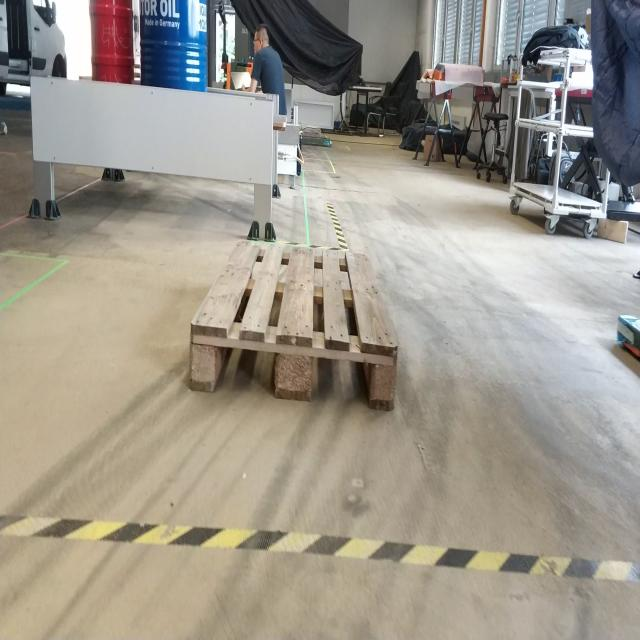block: (274, 333, 314, 403), (185, 320, 218, 396), (369, 343, 399, 414)
front: (182, 317, 398, 416)
